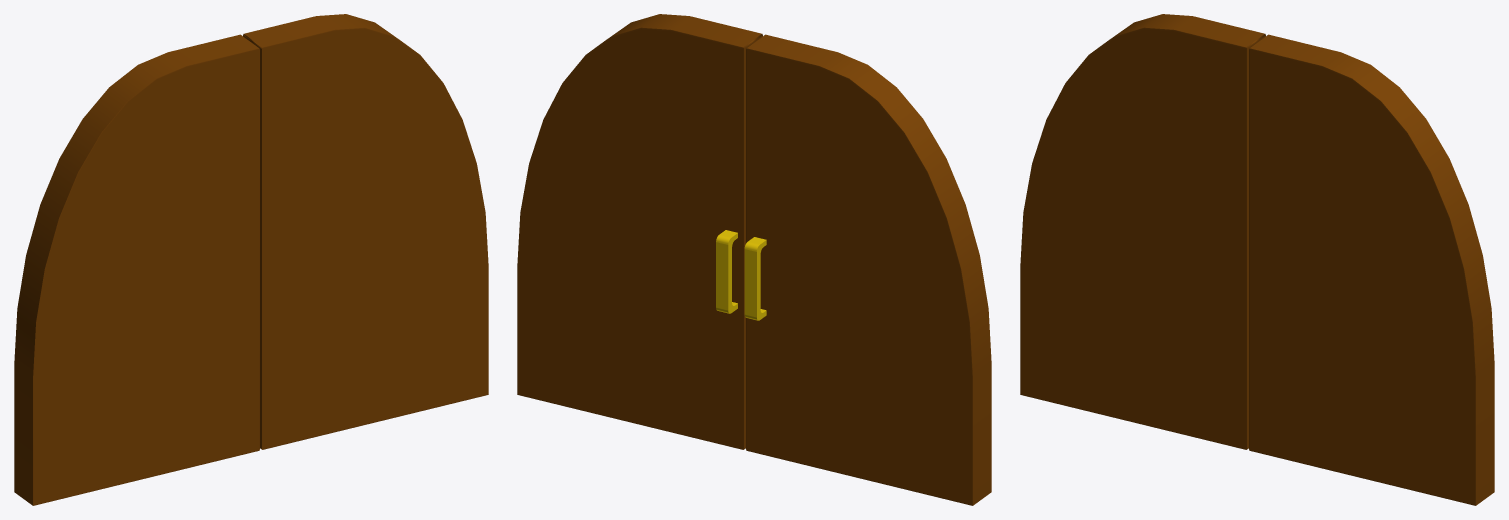
The model's file is door.fbx.
3 renders of one model, left to right at view 1: azimuth 30°, elevation 25°; view 2: azimuth 150°, elevation 25°; view 3: azimuth 330°, elevation 25°, orthographic.
Visible parts, largest first — view 1: door; view 2: door; view 3: door.
Part boxes in pixels (x1,y1,x2,y2): door: [14, 14, 488, 505]; door: [517, 14, 991, 505]; door: [1020, 14, 1494, 505].
Bounding box in the file's own units: 2788 × 2355 × 304.
